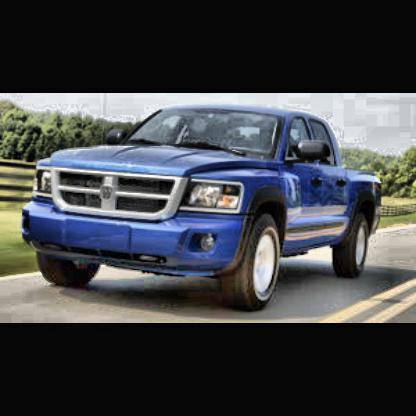Dodge Dakota Crew Cab 2010: (17, 100, 391, 316)
